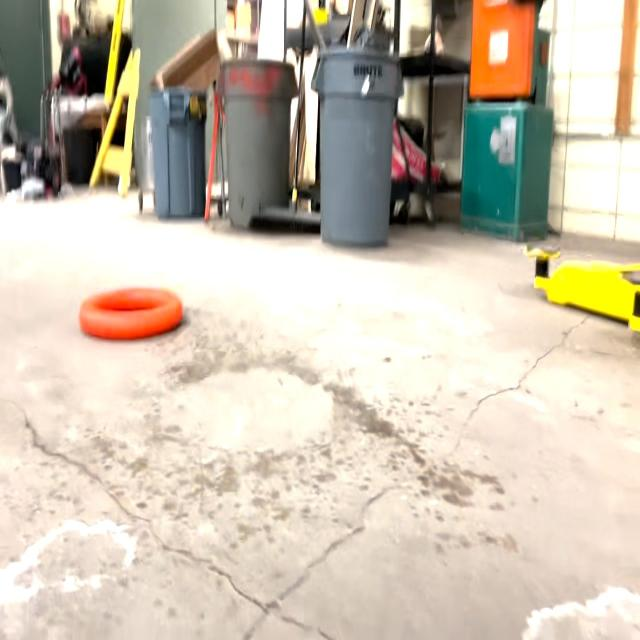note: (78, 282, 183, 343)
